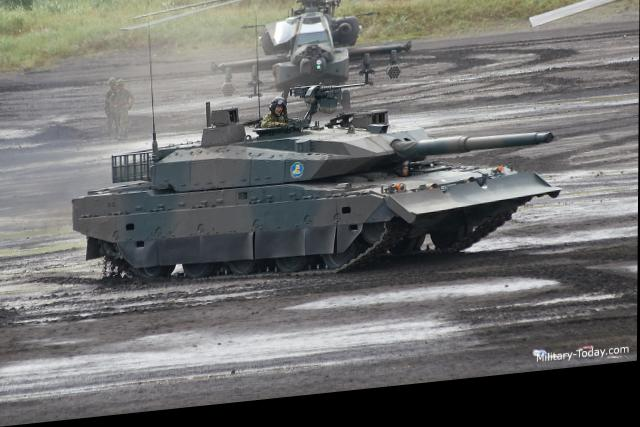other: (113, 81, 133, 146), (259, 100, 293, 134), (104, 78, 115, 139)
tank: (72, 76, 561, 289)
